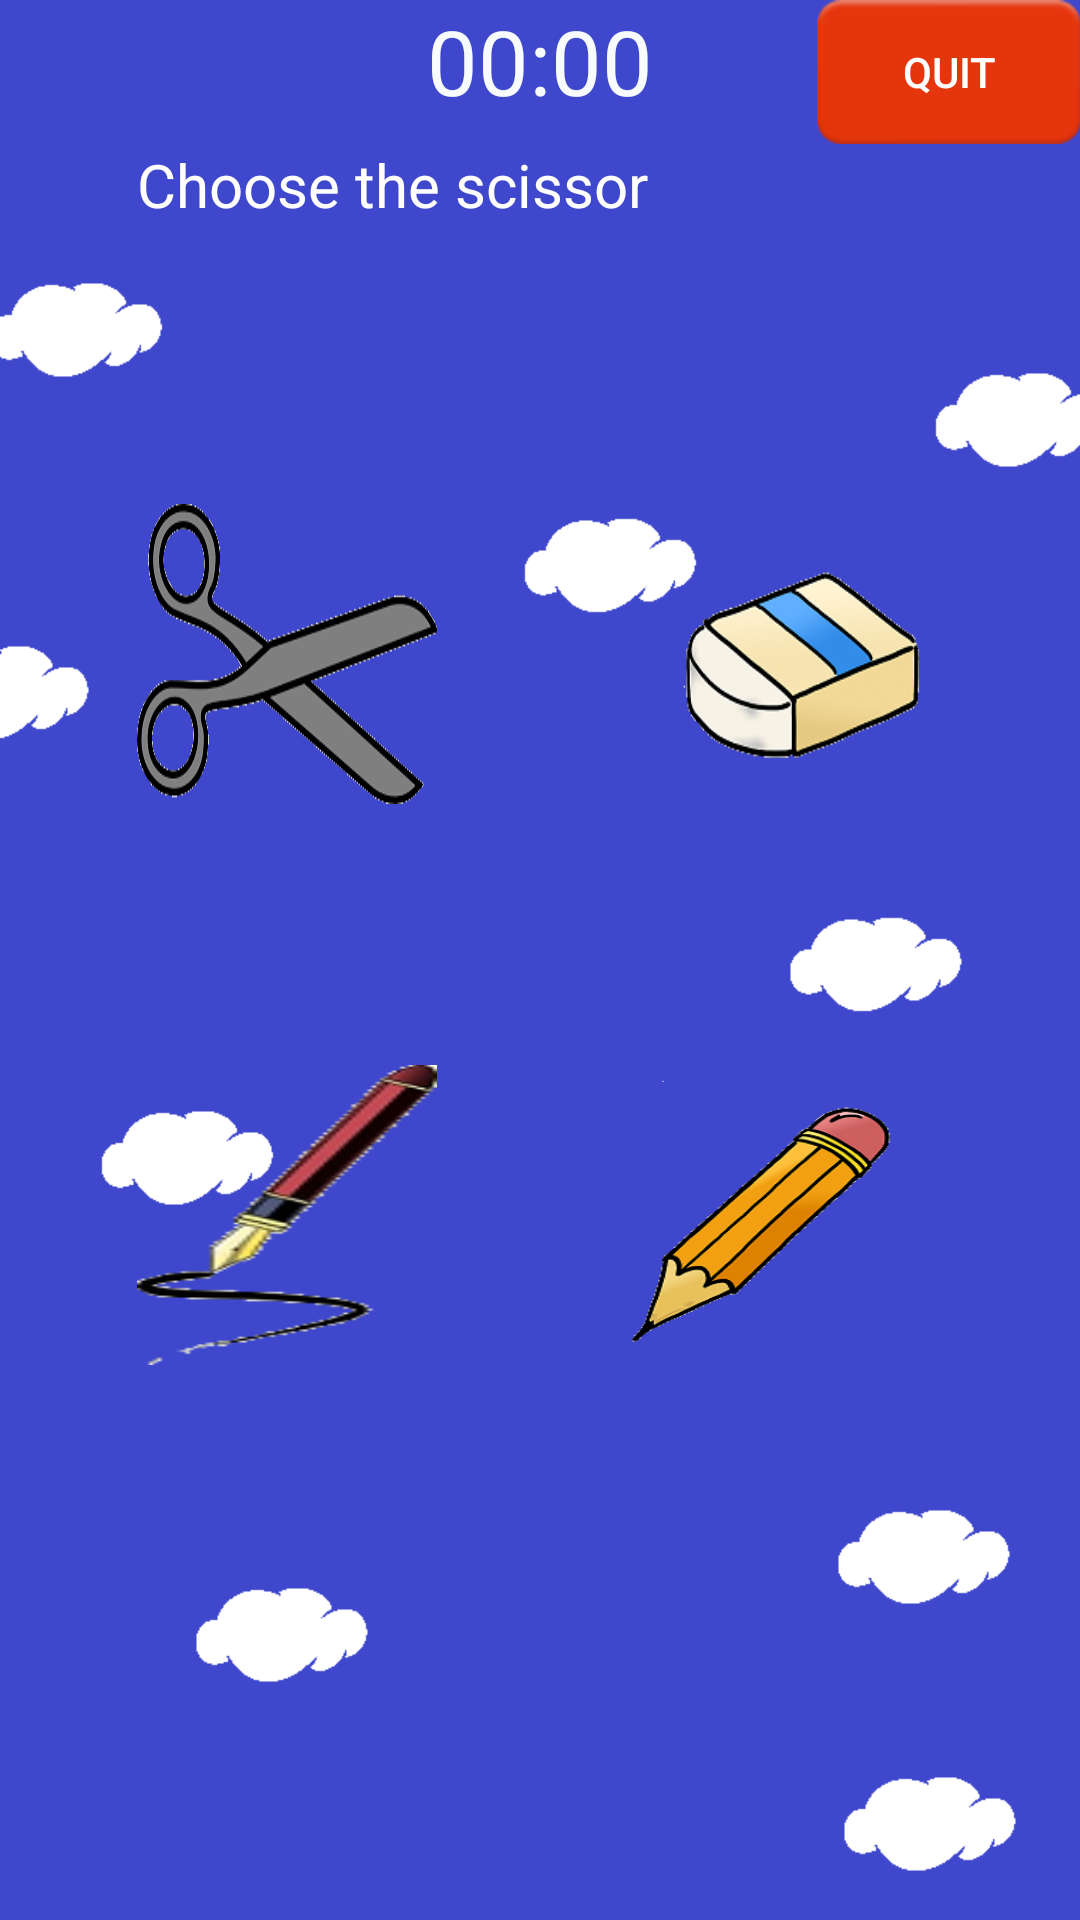

Icon click points for this 1080 × 1920 phone screenshot, format point (x, y):
eraser: point (801, 665)
pen: point (287, 1215)
pencil: point (761, 1211)
